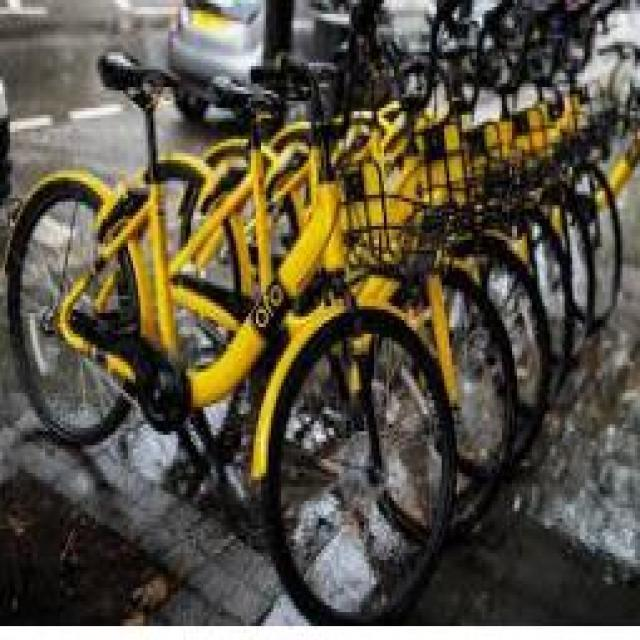bicycle: (11, 43, 491, 610), (262, 57, 521, 336), (551, 123, 629, 349)
